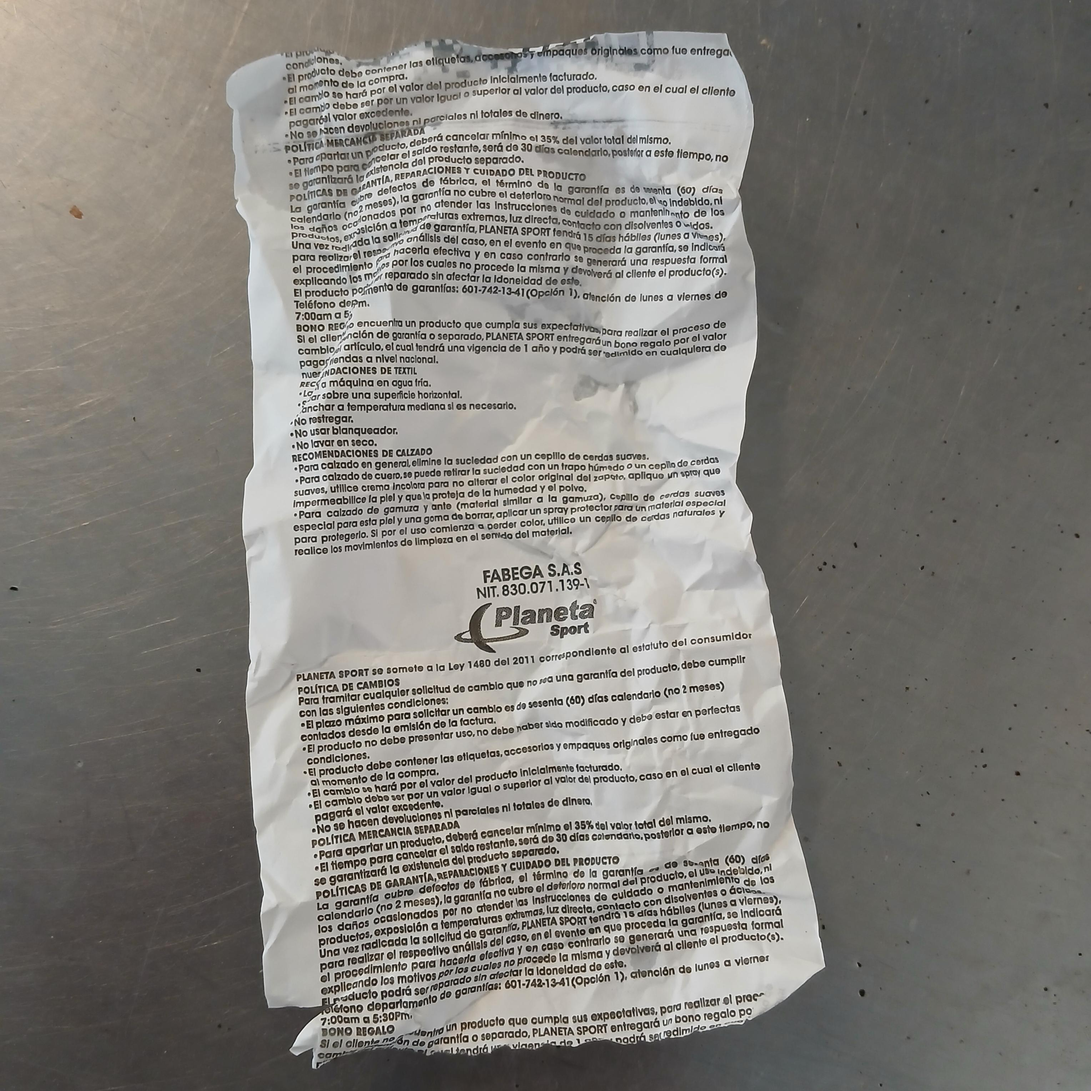Papel: (224, 29, 832, 1068)
